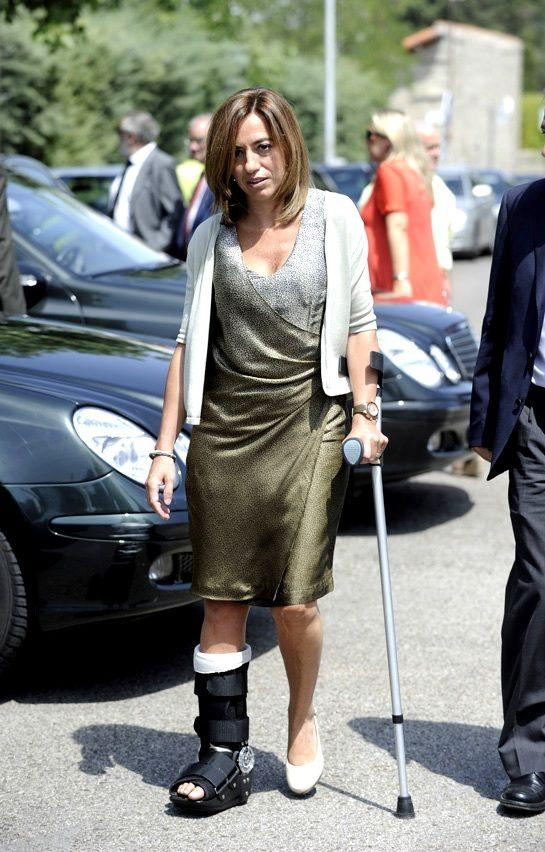crutches: (146, 87, 416, 819)
